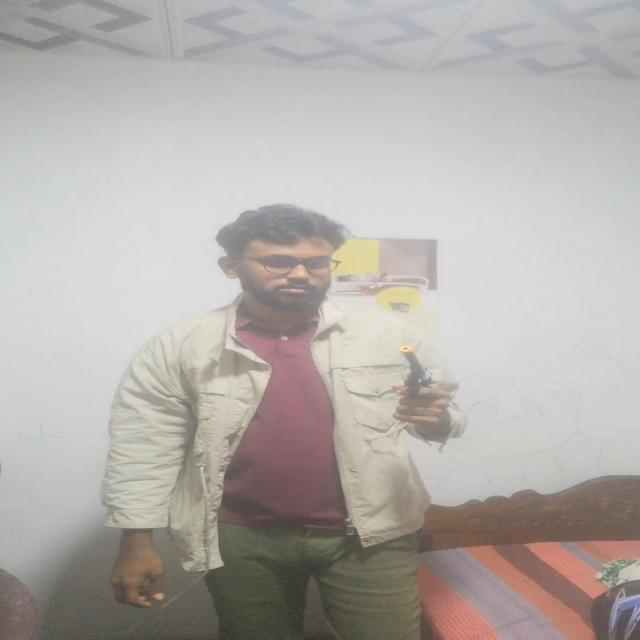Gun_Holder: (375, 338, 468, 434)
Jacket_Wearer: (78, 297, 498, 558)
Person: (90, 203, 480, 640)
